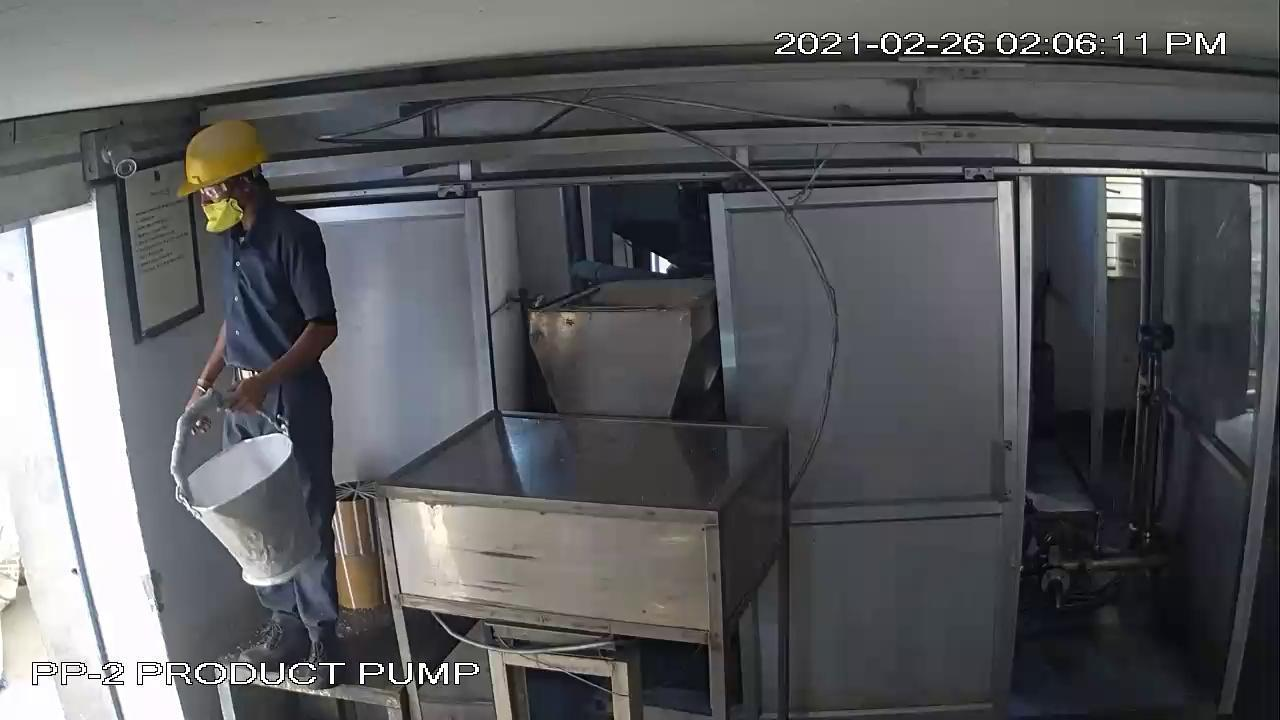helmet: (159, 116, 272, 204)
